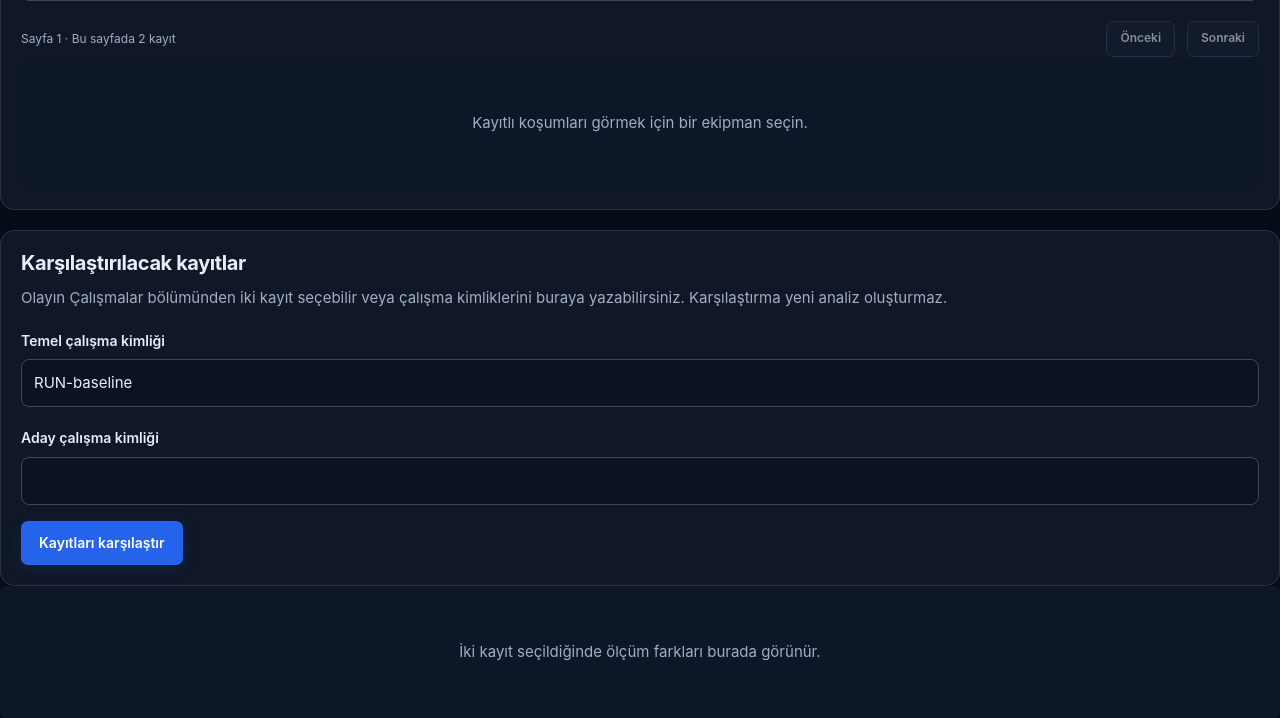
Test: recorded comparison workspace › does not fetch until two distinct records are selected
(page scrolled)
Expected: the text "İki kayıt seçildiğinde ölçüm farkları burada görünür." is shown, [0,586,1279,717]
Type "RUN-baseline" into the field labelled "Aday çalışma kimliği".
click(640, 481); type("RUN-baseline")  # box [21,457,1259,505]
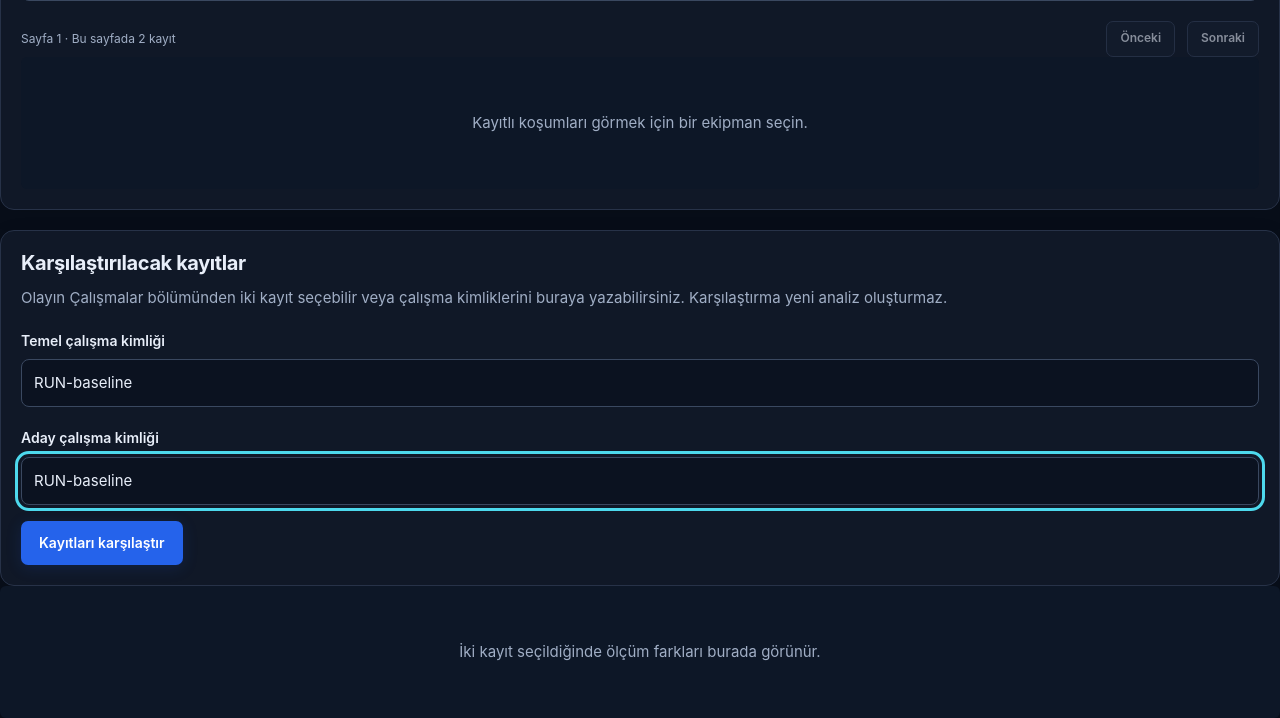
Click the button "Kayıtları karşılaştır".
click(102, 543)  # box [21,521,182,565]
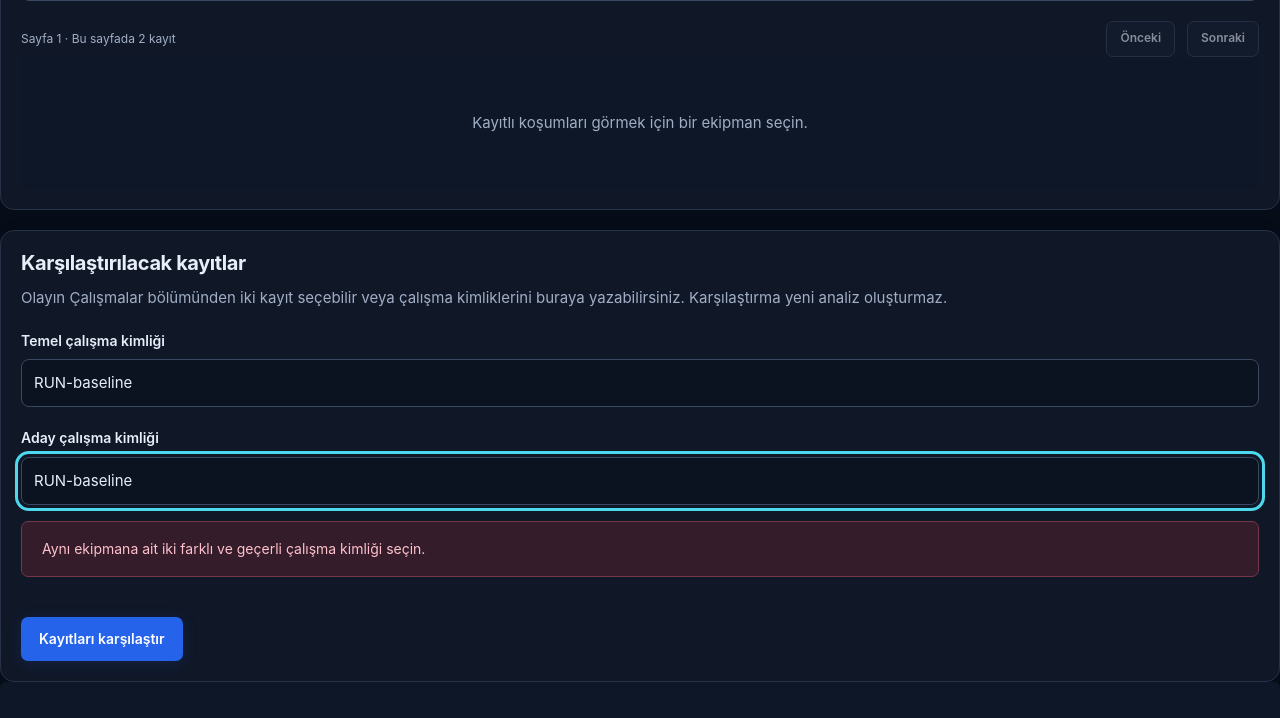
Expected: the message shows "iki farklı", [42,540,425,557]
